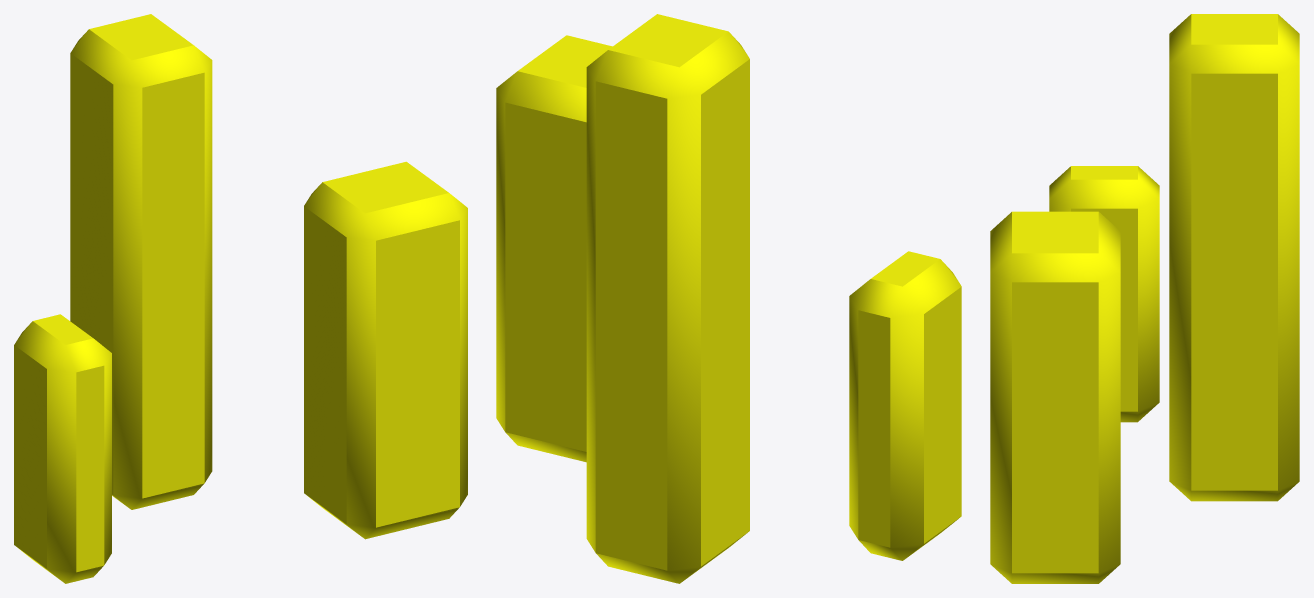
Rendered from Grass_Small.glb.
3 renders of one model, left to right at view 1: azimuth 30°, elevation 25°; view 2: azimuth 150°, elevation 25°; view 3: azimuth 270°, elevation 25°, orthographic. The views are drawn at different scales.
Parts seen in each view (by area): view 1: Grass_Small; view 2: Grass_Small; view 3: Grass_Small.
Part boxes in pixels (x1,y1,x2,y2): Grass_Small: (14, 14, 467, 583); Grass_Small: (496, 14, 961, 583); Grass_Small: (990, 14, 1299, 583).
Bounding box in the file's own units: 0.6327 × 0.6941 × 0.4265.
Materials: 1 (1 with a texture image).
